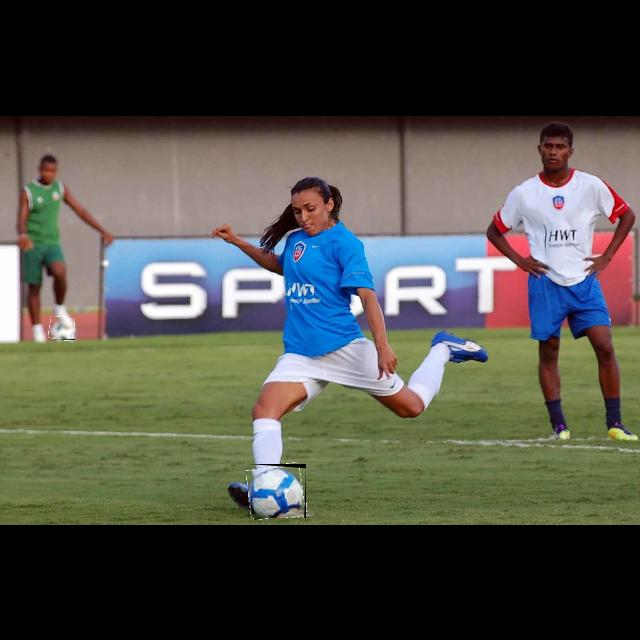Football: (248, 464, 306, 518), (49, 318, 75, 340)
